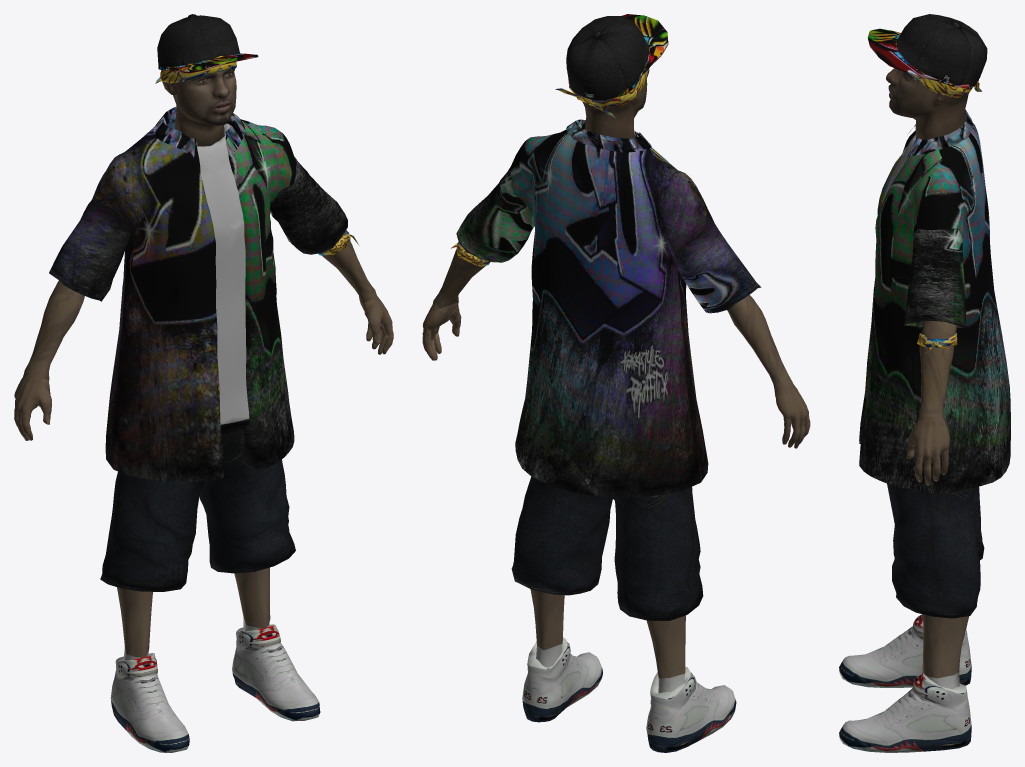
The model's file is skin-6-133.glb.
3 views of the same model, side by side, from view 1: azimuth 30°, elevation 25°; view 2: azimuth 150°, elevation 25°; view 3: azimuth 270°, elevation 25° (orthographic). The views are drawn at different scales.
Visible parts, largest first — view 1: skin-6-133; view 2: skin-6-133; view 3: skin-6-133.
Boxes of the visible parts, box(x1,y1,x2,y2) form: skin-6-133: box(14, 14, 393, 752); skin-6-133: box(422, 14, 810, 752); skin-6-133: box(839, 14, 1010, 752).
Size of the model in its own units: 1.07 by 1.88 by 0.4214.
Materials: 7 (7 with a texture image).
